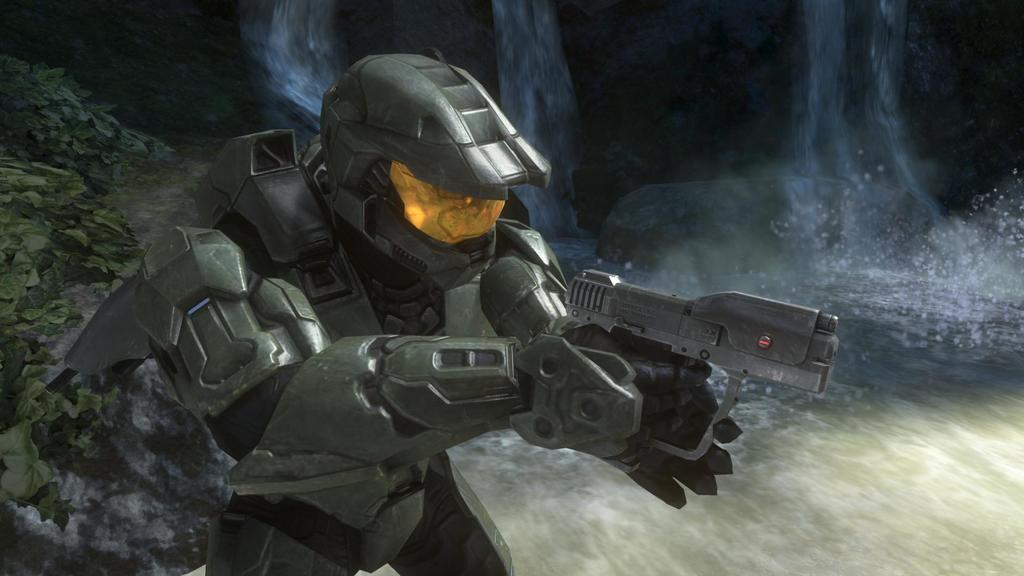non-violence: (70, 57, 735, 576)
weapon: (500, 252, 844, 477)
